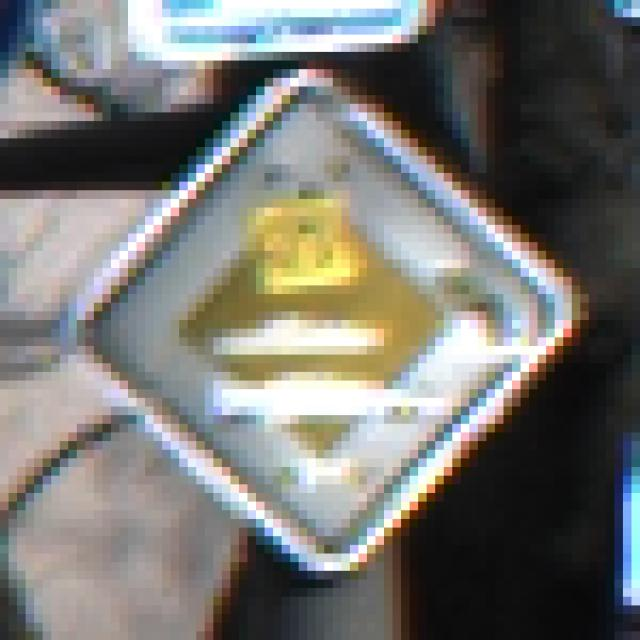Main Road: (61, 62, 590, 589)
